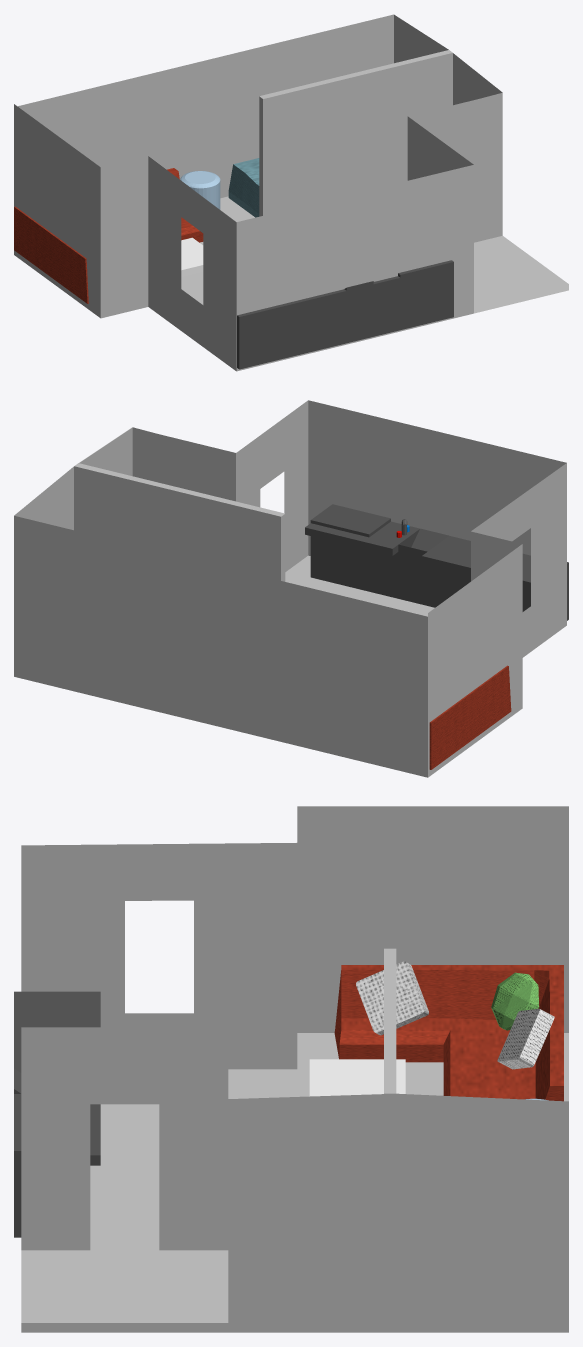
The model's file is map1_3.fbx.
The picture shows the model from 3 angles, top to bottom: view 1: azimuth 30°, elevation 25°; view 2: azimuth 150°, elevation 25°; view 3: azimuth 270°, elevation 25°; orthographic projection. The views are drawn at different scales.
Visible parts, largest first — view 1: Cube, Cube.006, Cube.002, Cube.001, Cylinder, Cube.003; view 2: Cube, Cube.006, Cube.002; view 3: Cube, Cube.002, Cube.006, Cube.003, Cube.004, Cube.005, Sphere.
Part boxes in pixels (left/top/right/bottom): Cube: left=14, top=14, right=568, bottom=371; Cube.006: left=237, top=260, right=453, bottom=369; Cube.002: left=14, top=168, right=203, bottom=303; Cube.001: left=228, top=158, right=259, bottom=217; Cylinder: left=180, top=171, right=220, bottom=209; Cube.003: left=181, top=237, right=203, bottom=276; Cube: left=14, top=400, right=566, bottom=777; Cube.006: left=305, top=504, right=568, bottom=620; Cube.002: left=429, top=665, right=511, bottom=769; Cube: left=21, top=806, right=568, bottom=1332; Cube.002: left=334, top=965, right=563, bottom=1101; Cube.006: left=14, top=991, right=100, bottom=1237; Cube.003: left=309, top=1059, right=405, bottom=1096; Cube.004: left=356, top=961, right=428, bottom=1035; Cube.005: left=497, top=1008, right=554, bottom=1069; Sphere: left=491, top=972, right=539, bottom=1030.
Size of the model in its own units: 17650 by 6756 by 14219.
